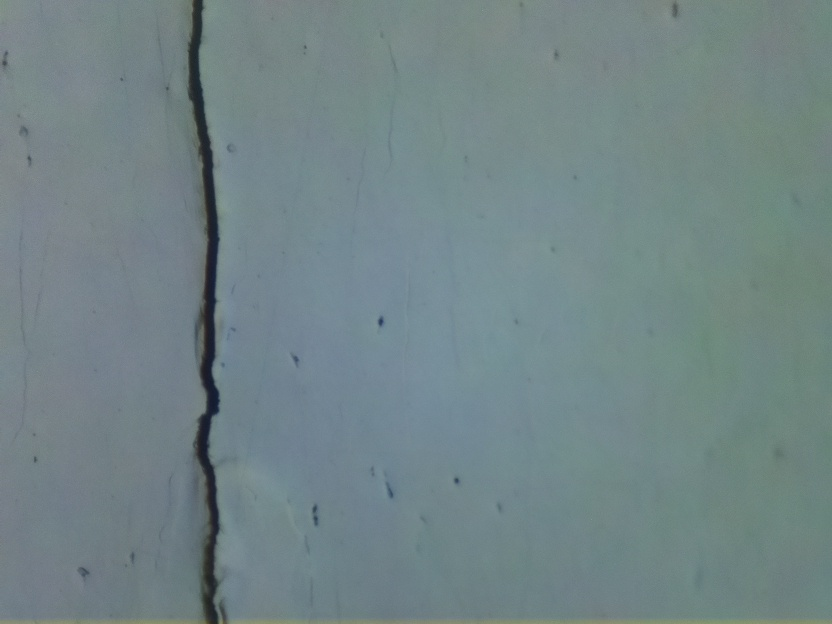crack: (178, 0, 227, 624)
